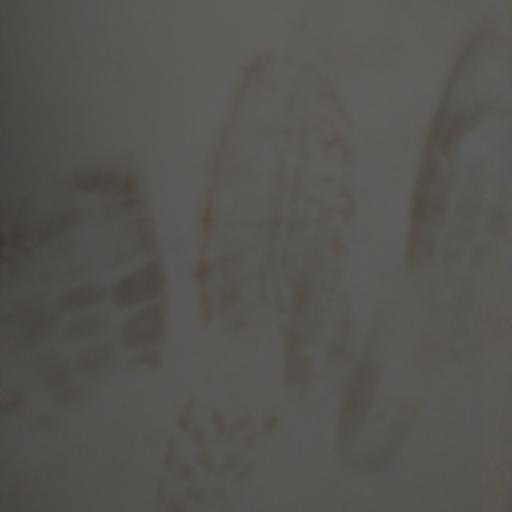stain: (7, 28, 512, 499)
